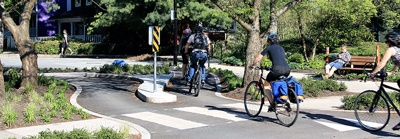helmet: (263, 33, 281, 46)
